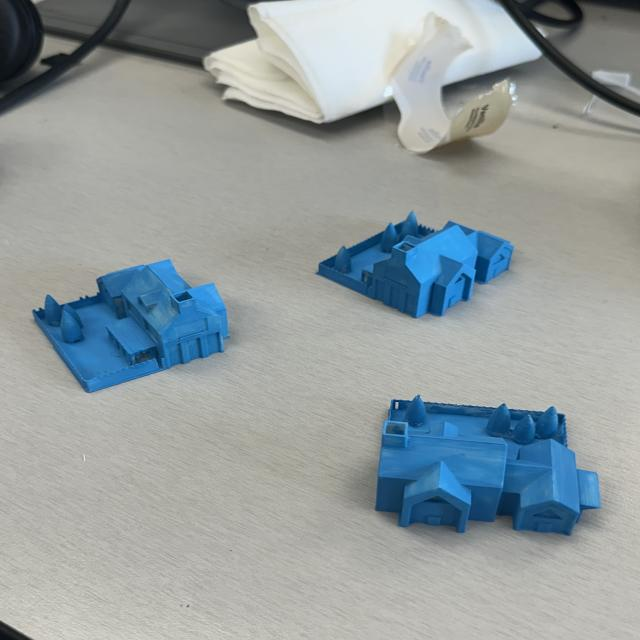house: (372, 395, 603, 539), (31, 256, 233, 394), (316, 208, 514, 318)
